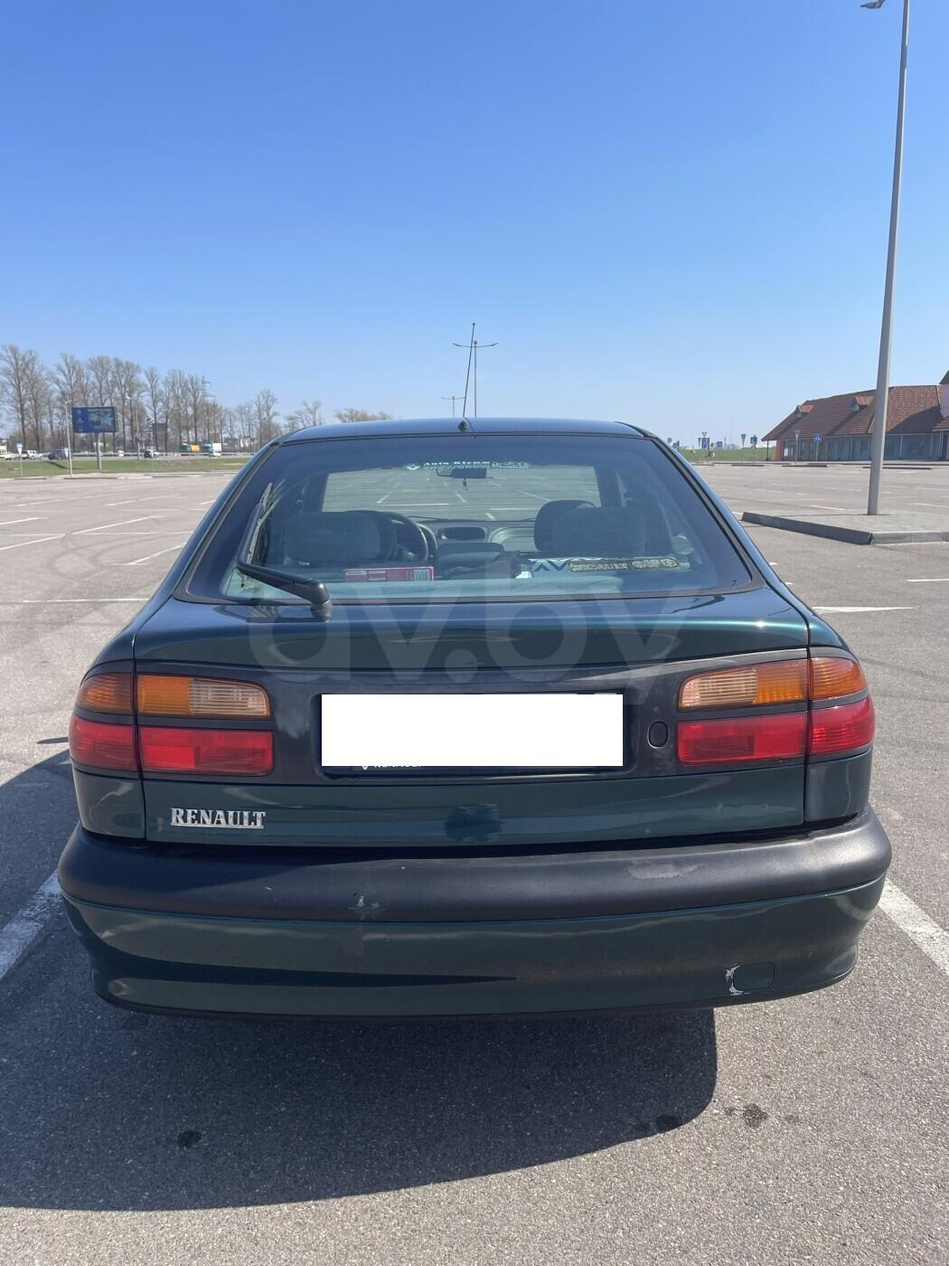Laguna_1998-2001: (51, 405, 891, 1049)
